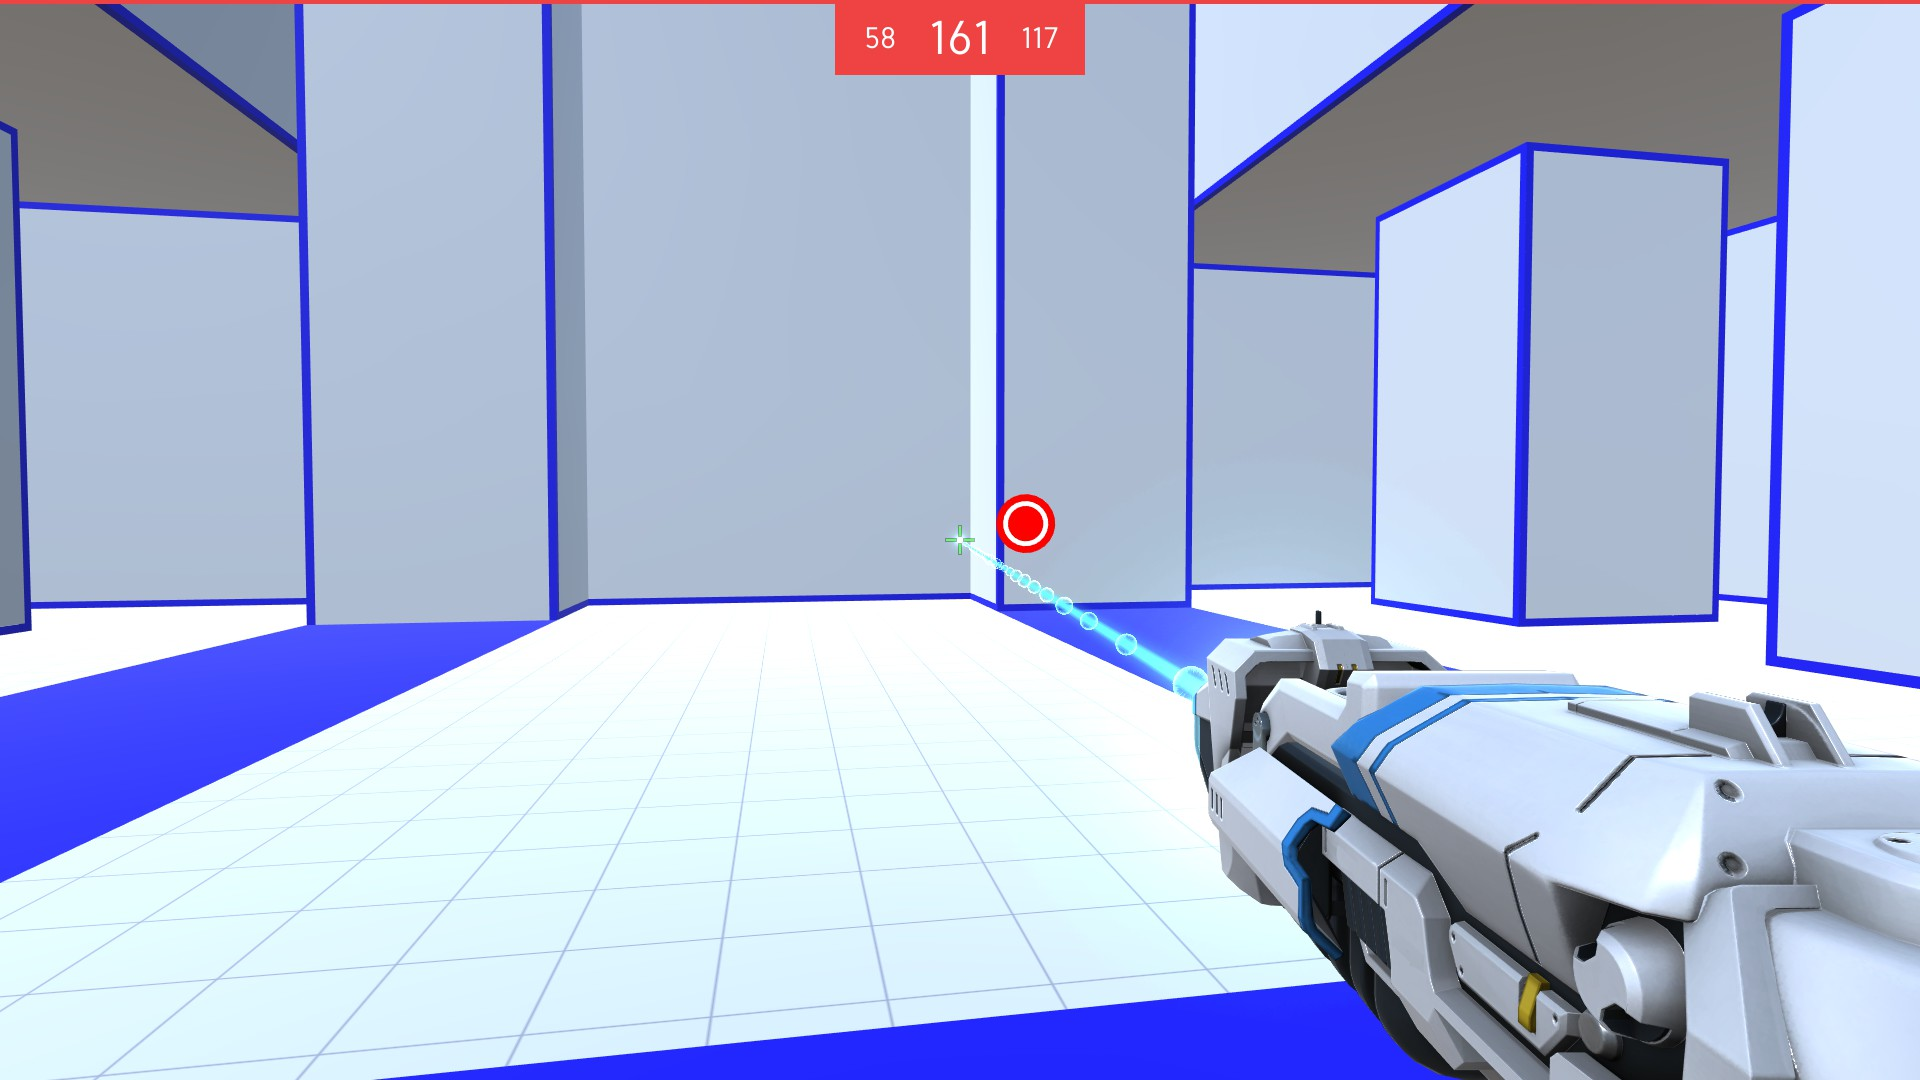target: (996, 495, 1058, 554)
